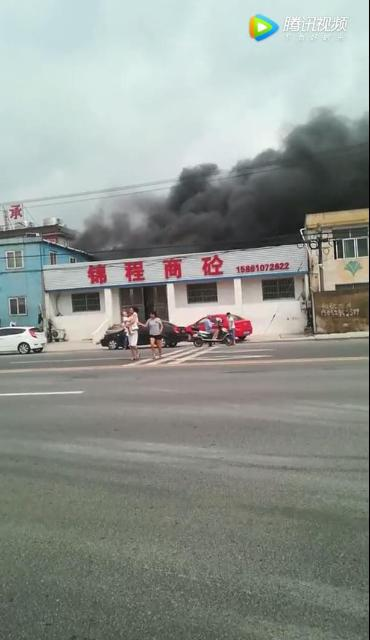smoke: (82, 185, 302, 253), (175, 134, 363, 188), (289, 110, 366, 136), (301, 183, 365, 213)
